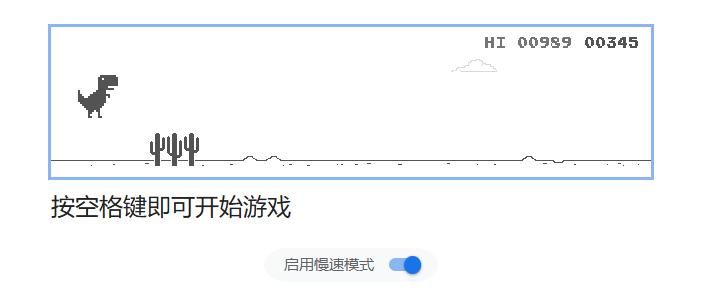cactus: (148, 130, 202, 168)
dino: (78, 72, 120, 120)
